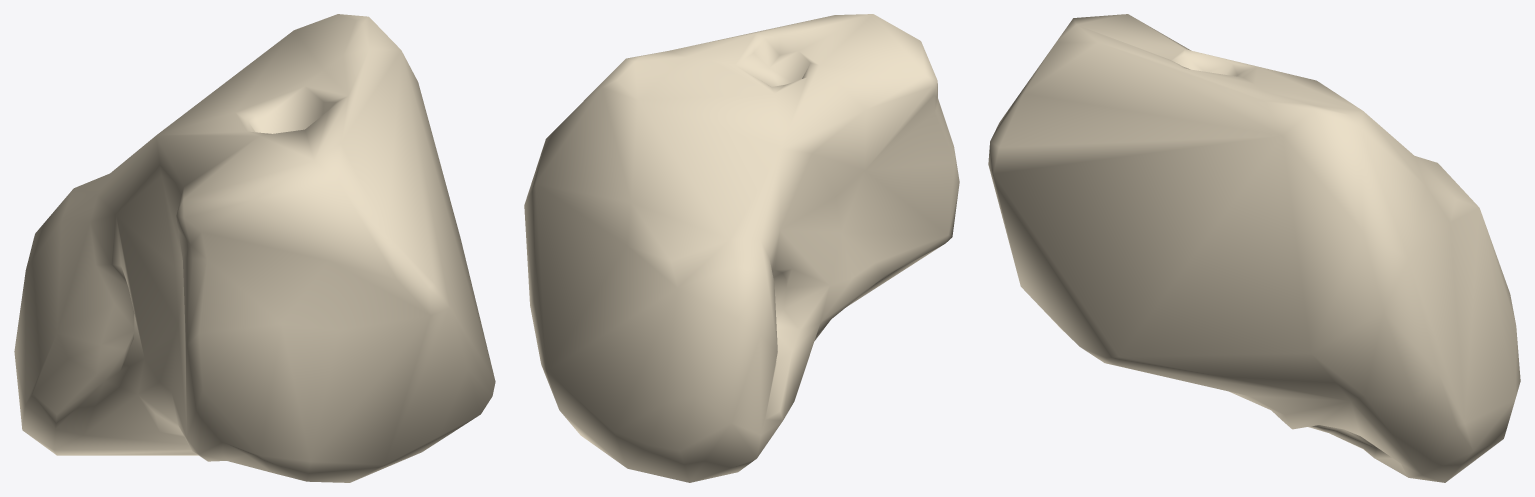
Rendered from trapezoid-bone-l.glb.
3 renders of one model, left to right at view 1: azimuth 30°, elevation 25°; view 2: azimuth 150°, elevation 25°; view 3: azimuth 270°, elevation 25°, orthographic. The views are drawn at different scales.
Visible parts, largest first — view 1: Trapezoid bone.l; view 2: Trapezoid bone.l; view 3: Trapezoid bone.l.
Boxes of the visible parts, left/top/right/bottom form: Trapezoid bone.l: left=14, top=14, right=495, bottom=482; Trapezoid bone.l: left=524, top=14, right=959, bottom=482; Trapezoid bone.l: left=988, top=14, right=1520, bottom=482.
Bounding box in the file's own units: 0.0117 × 0.0131 × 0.0155.
